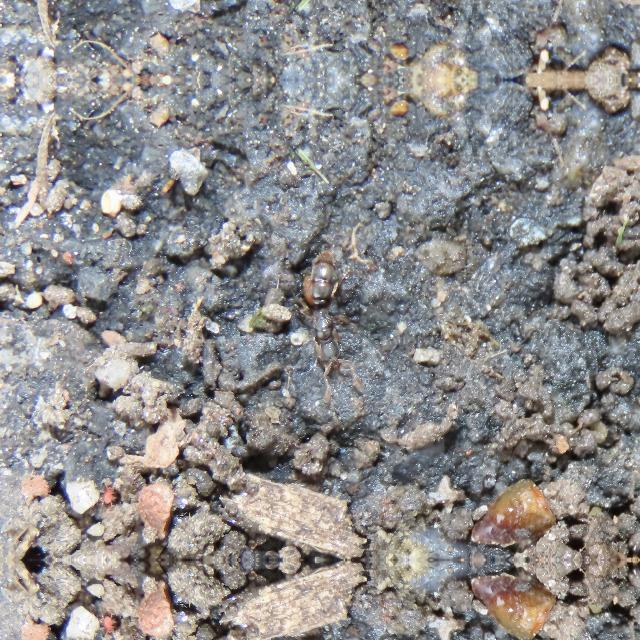Ponera: (276, 235, 376, 402)
